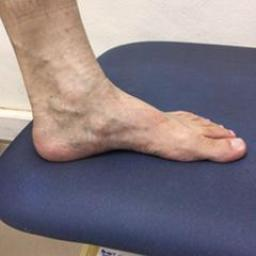Medial View -Left Foot-: (12, 56, 250, 177)
